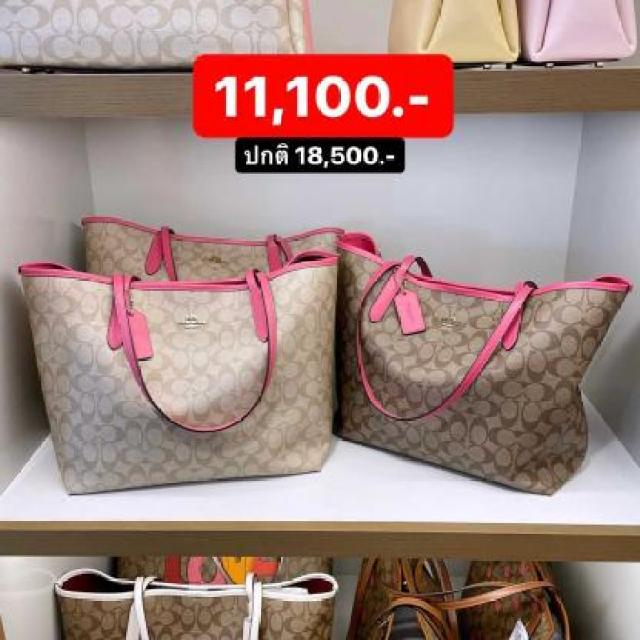Bag: (0, 196, 371, 516), (354, 222, 640, 513)
